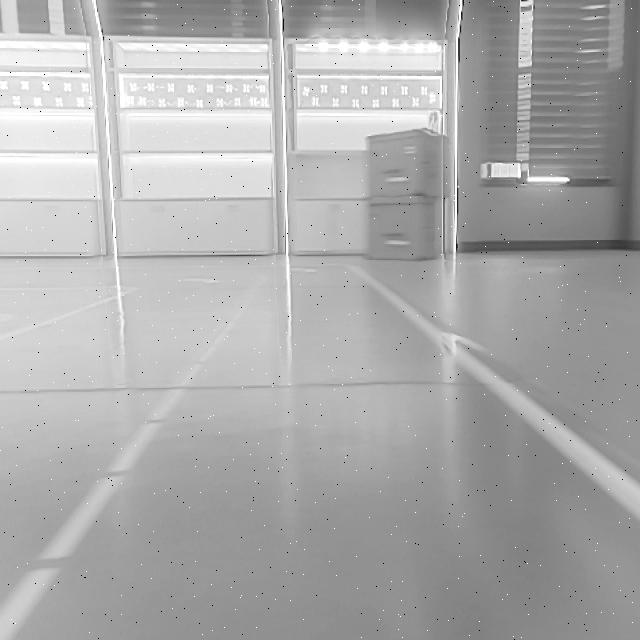left_lane: (0, 292, 254, 639)
right_lane: (373, 275, 638, 520), (6, 288, 129, 346)
